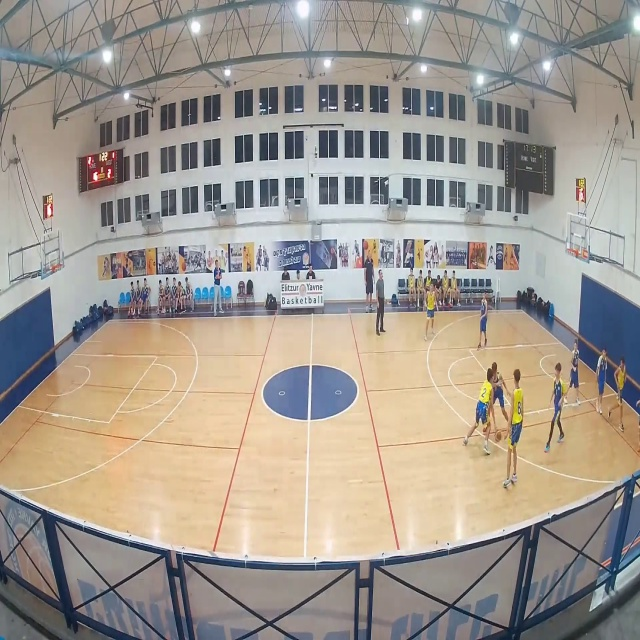Basketball: (495, 430, 503, 441)
